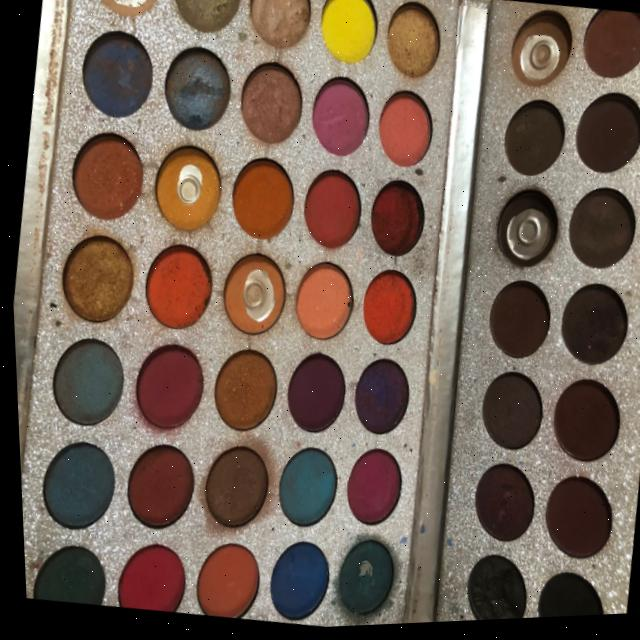eye shade: (0, 0, 492, 640)
